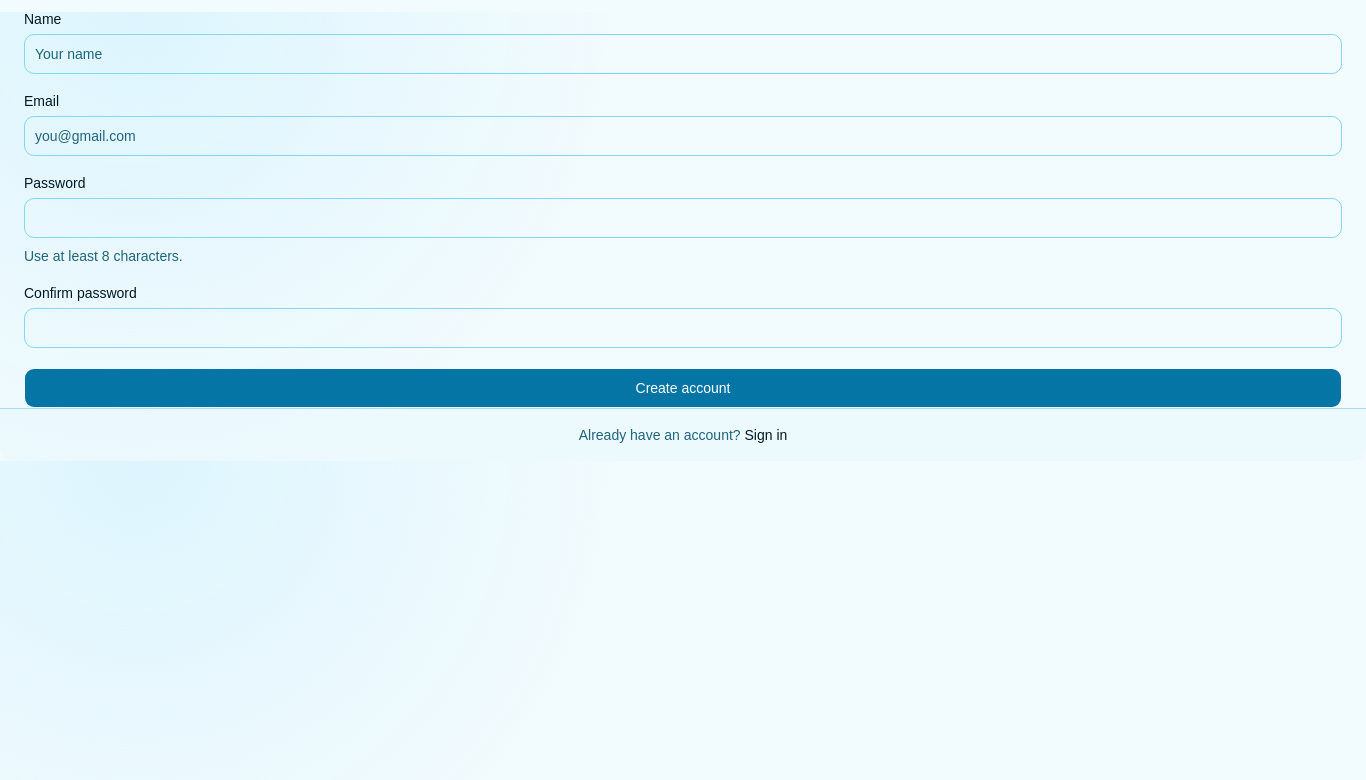
Test: AuthForm › Register mode › validates password match
Type "Test User" into the field labelled "Name".
click(683, 54); type("Test User")  # box [24,34,1342,74]
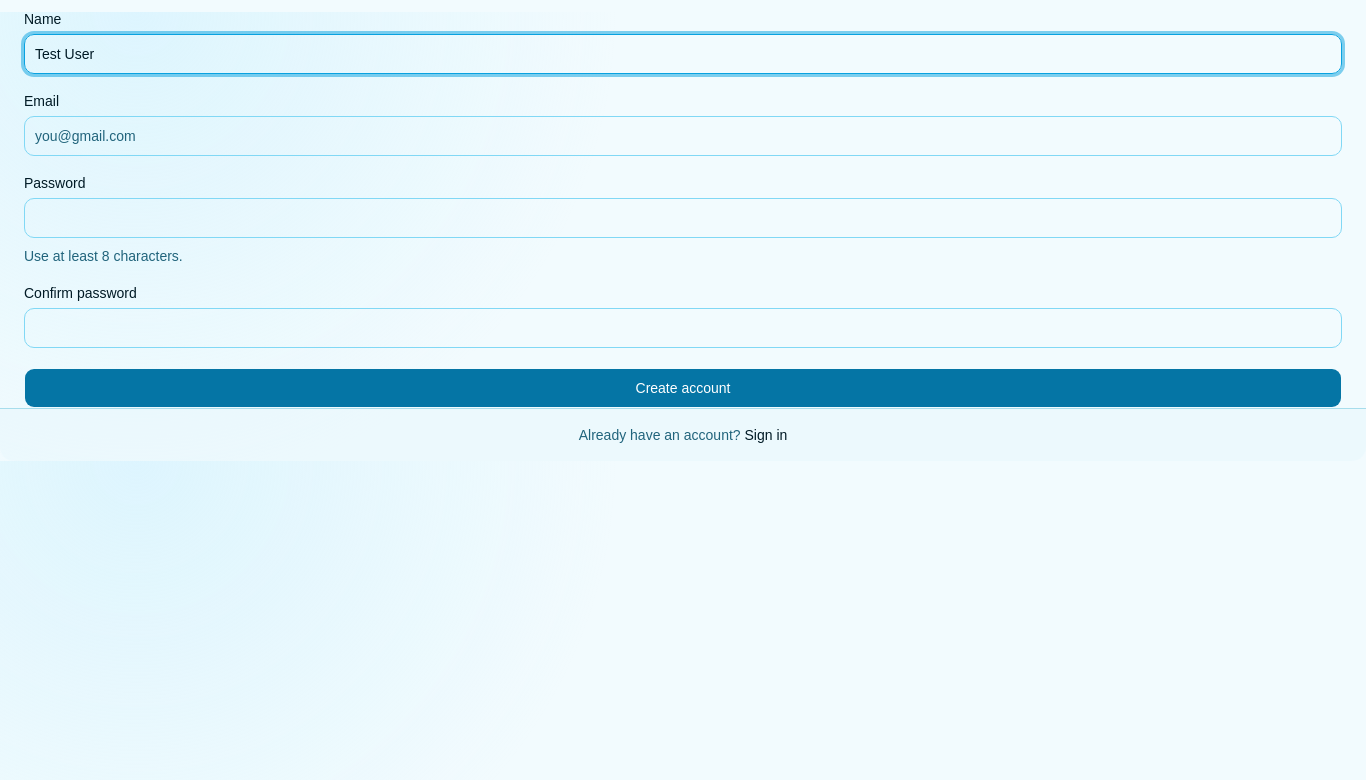
Type "test@example.com" into the field labelled "Email".
click(683, 136); type("test@example.com")  # box [24,116,1342,156]
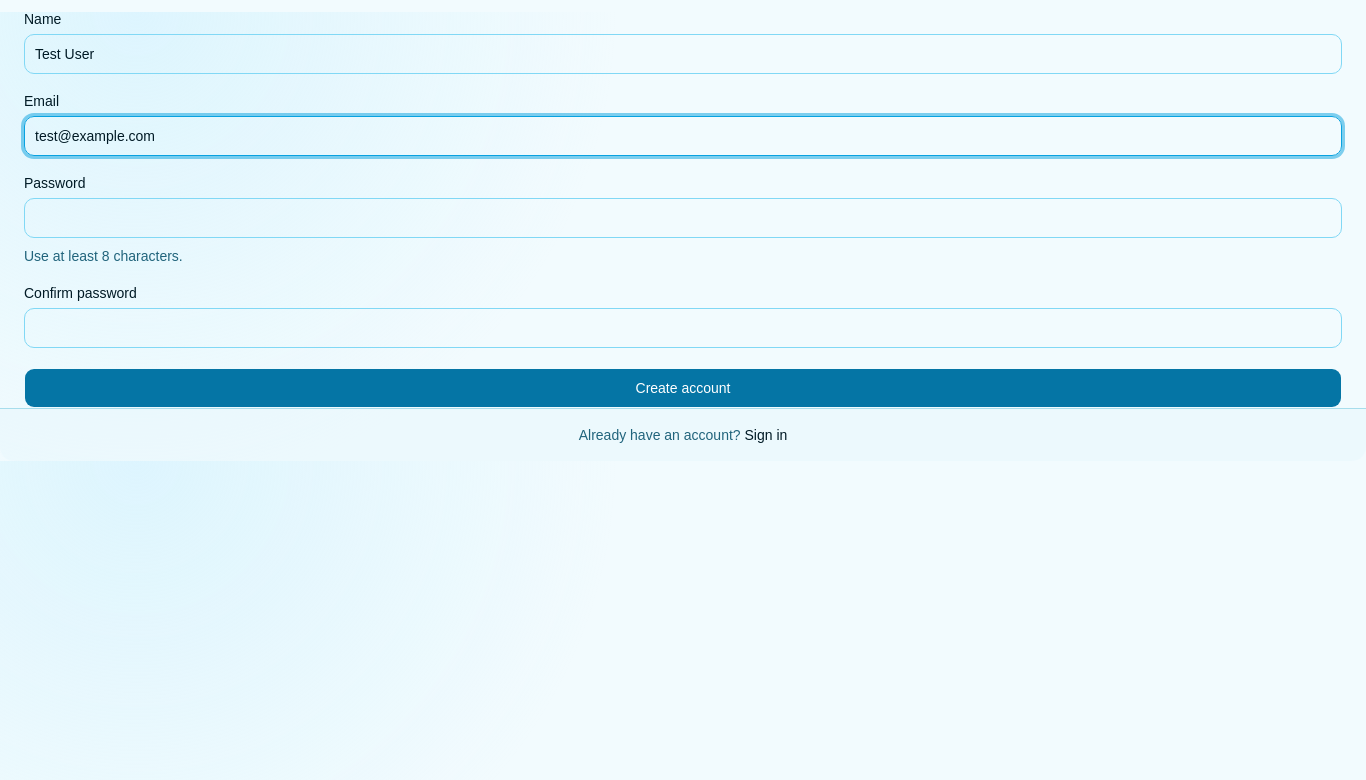
Type "password123" into the password field labelled "Password".
click(683, 218); type("password123")  # box [24,198,1342,238]
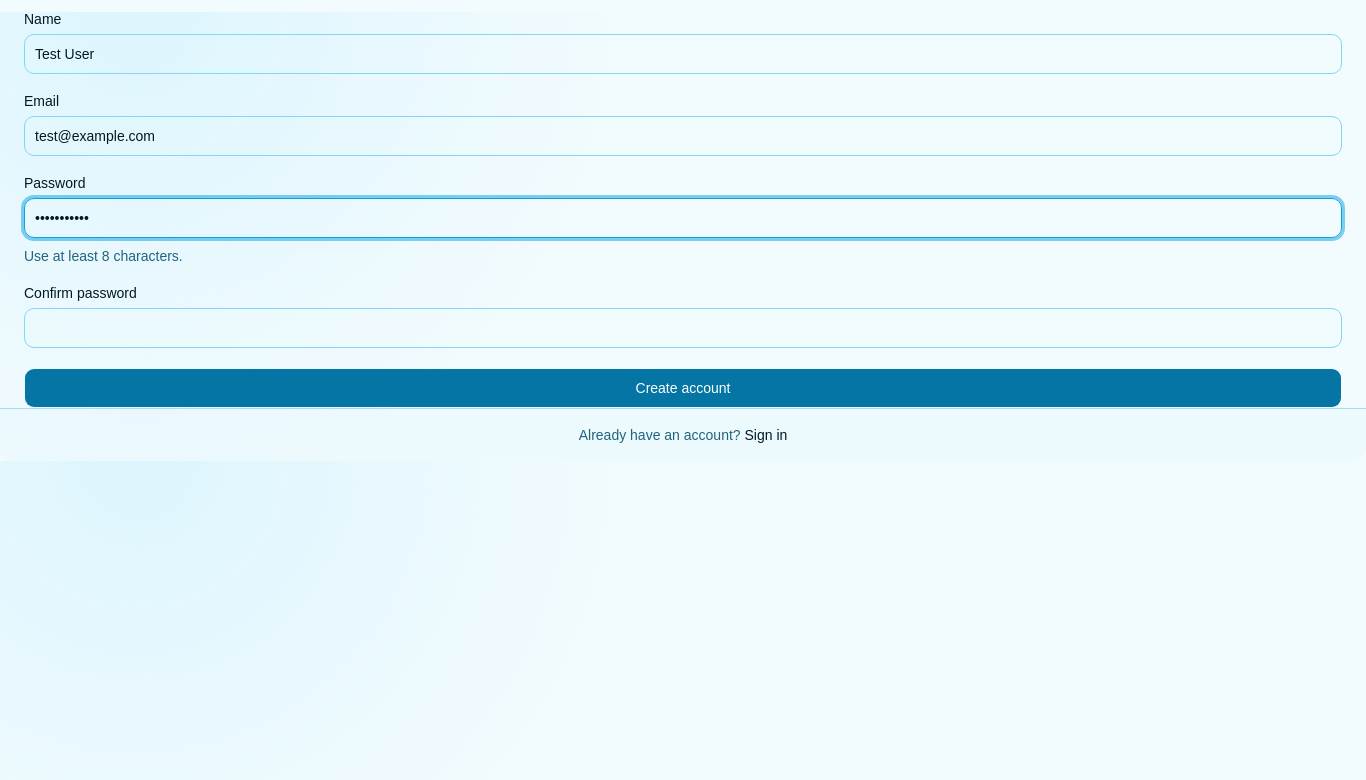
Type "different123" into the password field labelled "Confirm password".
click(683, 328); type("different123")  # box [24,308,1342,348]
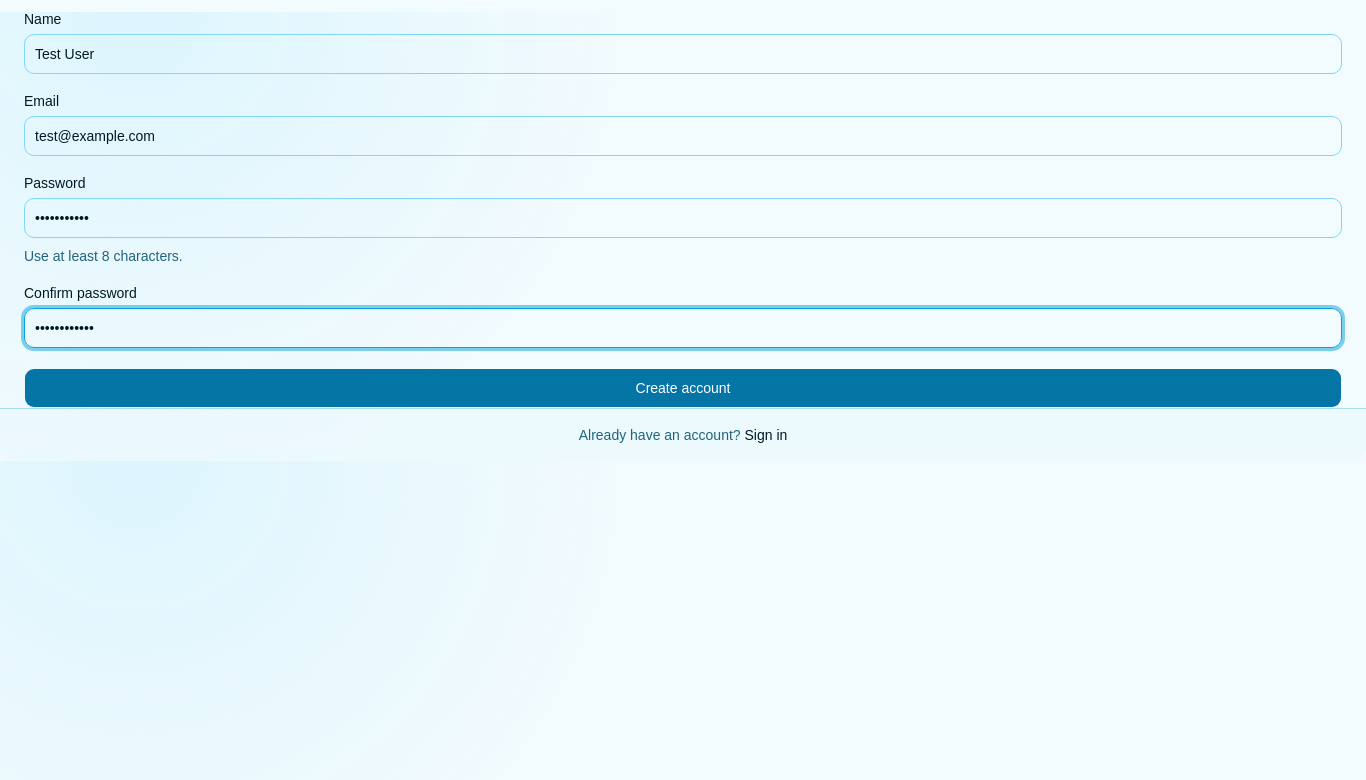
Click the button "Create account".
click(683, 388)  # box [24,368,1342,408]
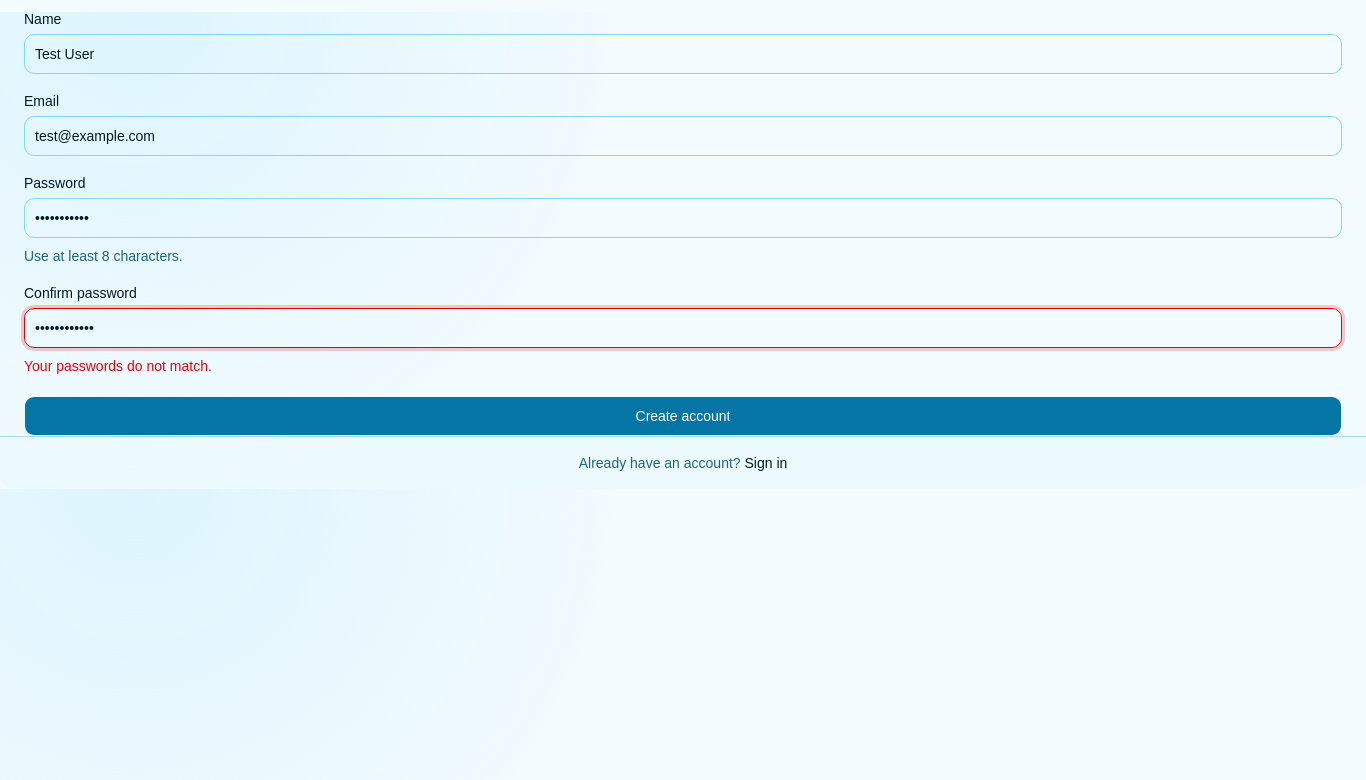
expect the text "Your passwords do not match." is shown: met, box [24,358,212,374]
